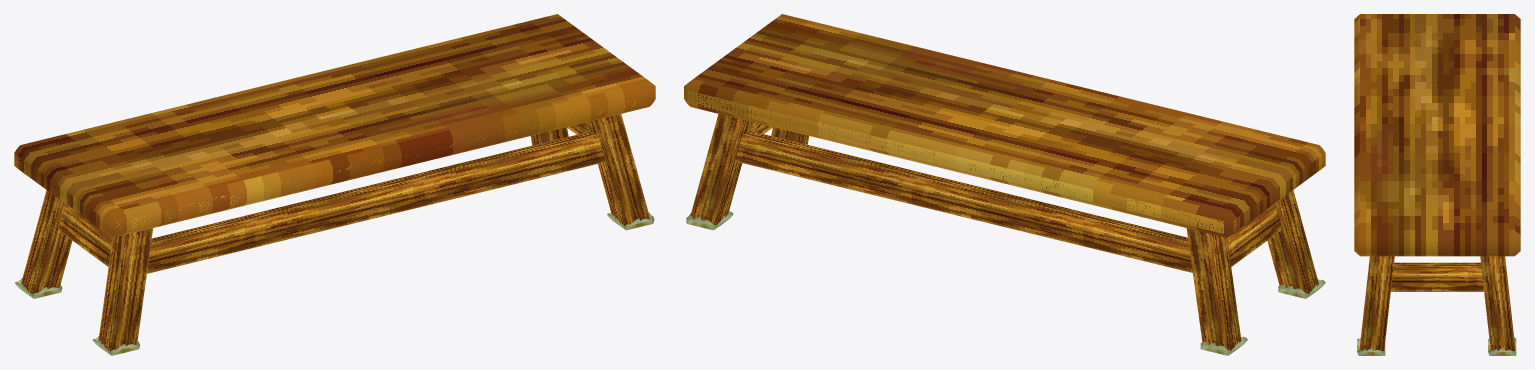
The model's file is a-tabl-1-2.glb.
The picture shows the model from 3 angles, left to right: view 1: azimuth 30°, elevation 25°; view 2: azimuth 150°, elevation 25°; view 3: azimuth 270°, elevation 25°; orthographic projection. The views are drawn at different scales.
Parts seen in each view (by area): view 1: a_tabl_1; view 2: a_tabl_1; view 3: a_tabl_1.
Boxes of the visible parts, x1,y1,x2,y2 form: a_tabl_1: [14, 14, 655, 355]; a_tabl_1: [684, 14, 1325, 355]; a_tabl_1: [1354, 14, 1520, 355].
Size of the model in its own units: 359 by 89 by 112.
Materials: 2 (2 with a texture image).
